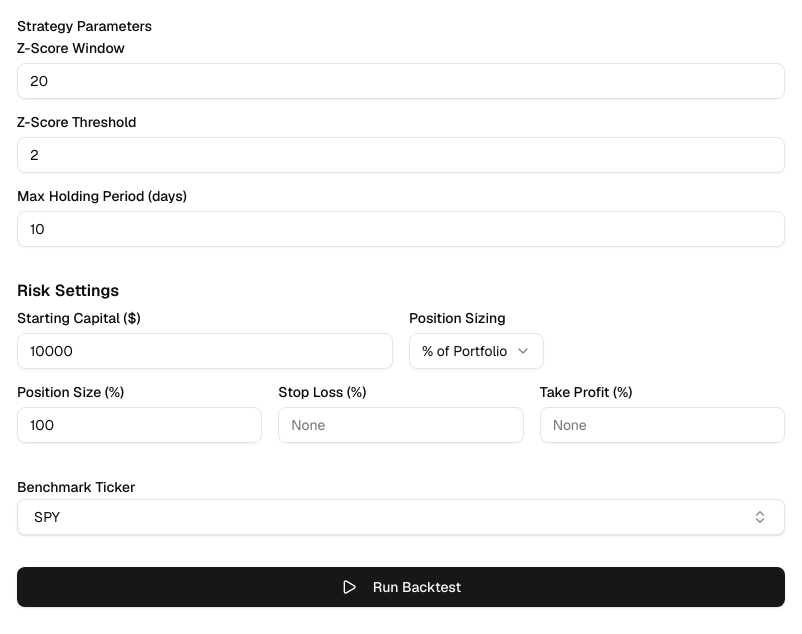
it: StrategyBuilderForm — inline validation errors › shows inline date error when date_to < date_from
This screenshot has width=802, height=634.
(page scrolled)
Click the button with test id "run-backtest-button" at (401, 587), box top-left (17, 567), bottom-right (785, 607)
(page scrolled)
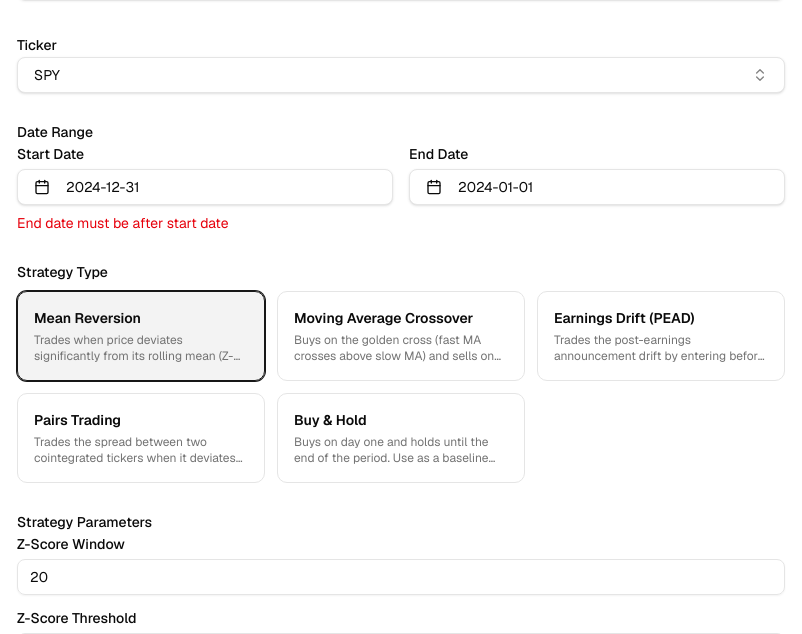
Now the text with test id "field-error-date-to" reads "End date must be after start date", box top-left (17, 214), bottom-right (228, 232)
